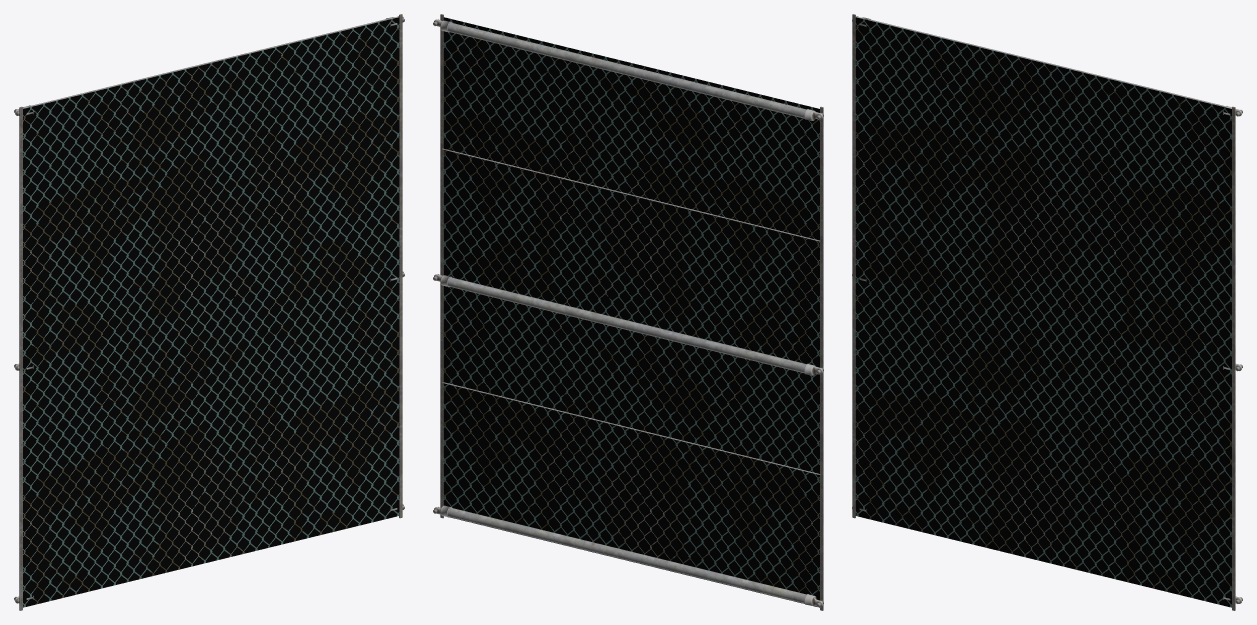
The model's file is tel_cit_2m.gltf.
The picture shows the model from 3 angles, left to right: view 1: azimuth 30°, elevation 25°; view 2: azimuth 150°, elevation 25°; view 3: azimuth 330°, elevation 25°; orthographic projection.
Parts seen in each view (by area): view 1: tel_cit_2m; view 2: tel_cit_2m; view 3: tel_cit_2m.
Boxes of the visible parts, x1=… form: tel_cit_2m: x1=14, y1=14, x2=404, y2=610; tel_cit_2m: x1=433, y1=14, x2=823, y2=610; tel_cit_2m: x1=852, y1=14, x2=1242, y2=610.
Size of what is drawn, in the model's own units: 1.91 by 2.37 by 0.0486.
Materials: 2 (2 with a texture image).
